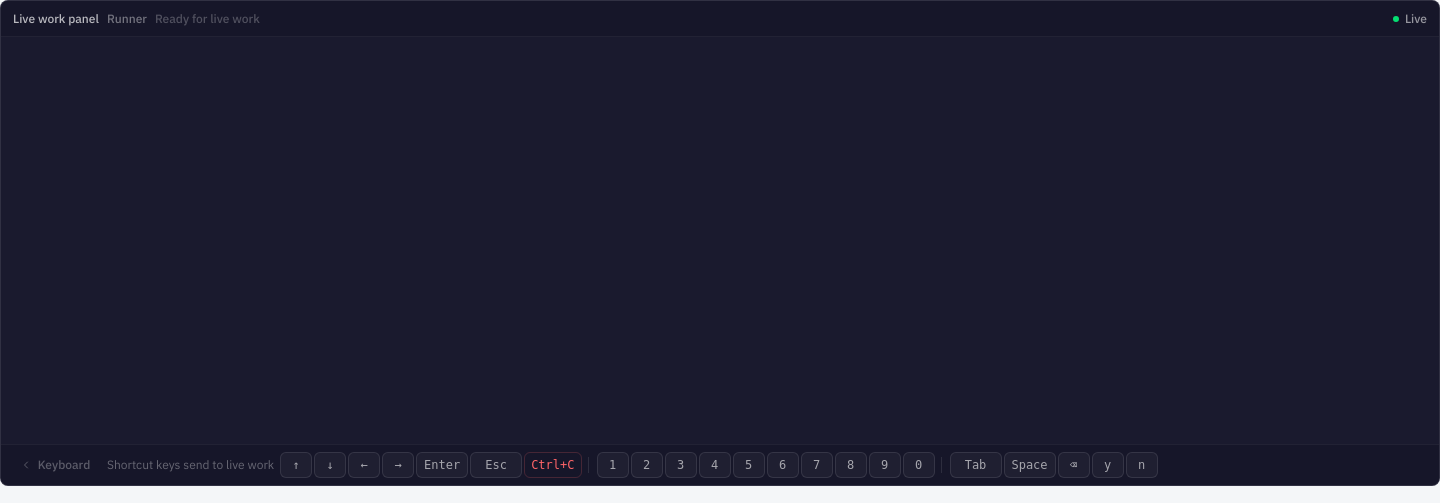
Test: AgentTerminalTab › keeps the keyboard label visible when shortcut keys are collapsed
Click the button with aria-label "hide virtual keyboard".
click(55, 465)  # box [9, 451, 101, 479]
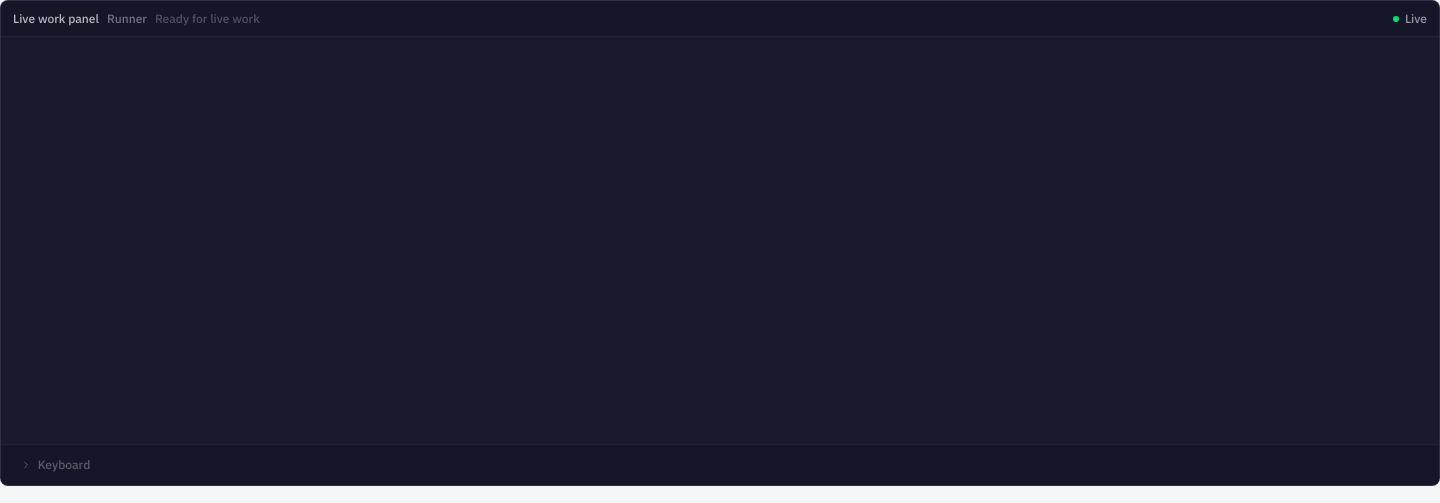
Expected: the text "Keyboard" is shown, [38, 457, 90, 473]
Result: the text "Shortcut keys send to live work" is gone
Result: the button "Enter" is gone
